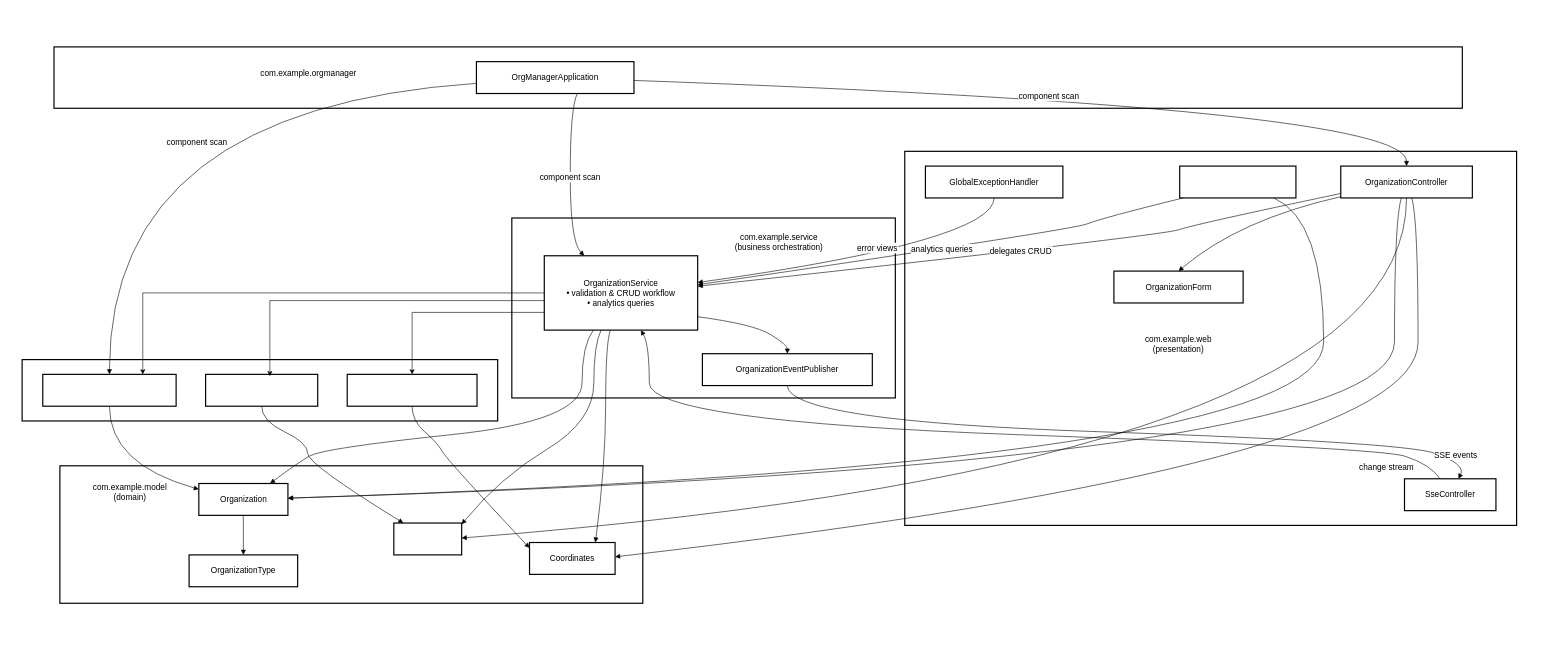
Some shapes in this 1560 by 653 pixel diagram are drawn without their labels. The centre of each missing label's shape, as x and y in pixels:
"Address" goes at [427,538].
"AddressRepository" goes at [261,390].
"AnalyticsController" goes at [1237,181].
"CoordinatesRepository" goes at [411,390].
"OrganizationRepository" goes at [109,390].
